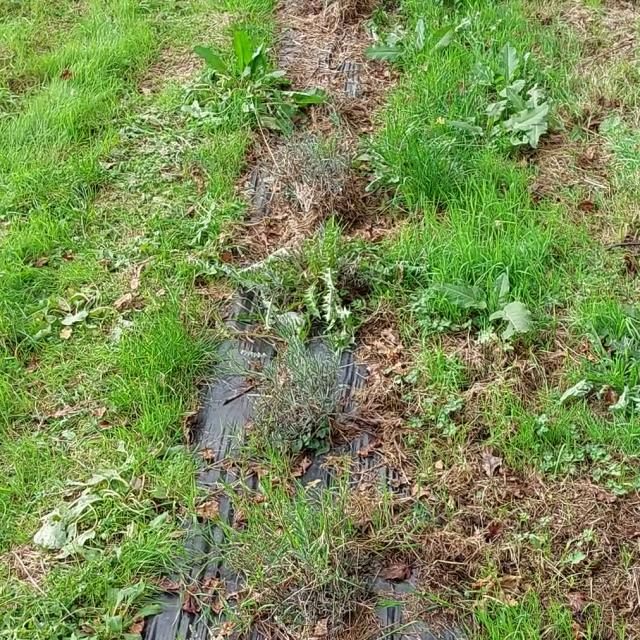organic waste: (169, 16, 294, 110), (408, 244, 524, 345), (28, 468, 135, 566), (440, 78, 544, 158), (21, 262, 107, 343), (468, 48, 569, 112), (509, 85, 581, 166), (373, 12, 462, 68)
